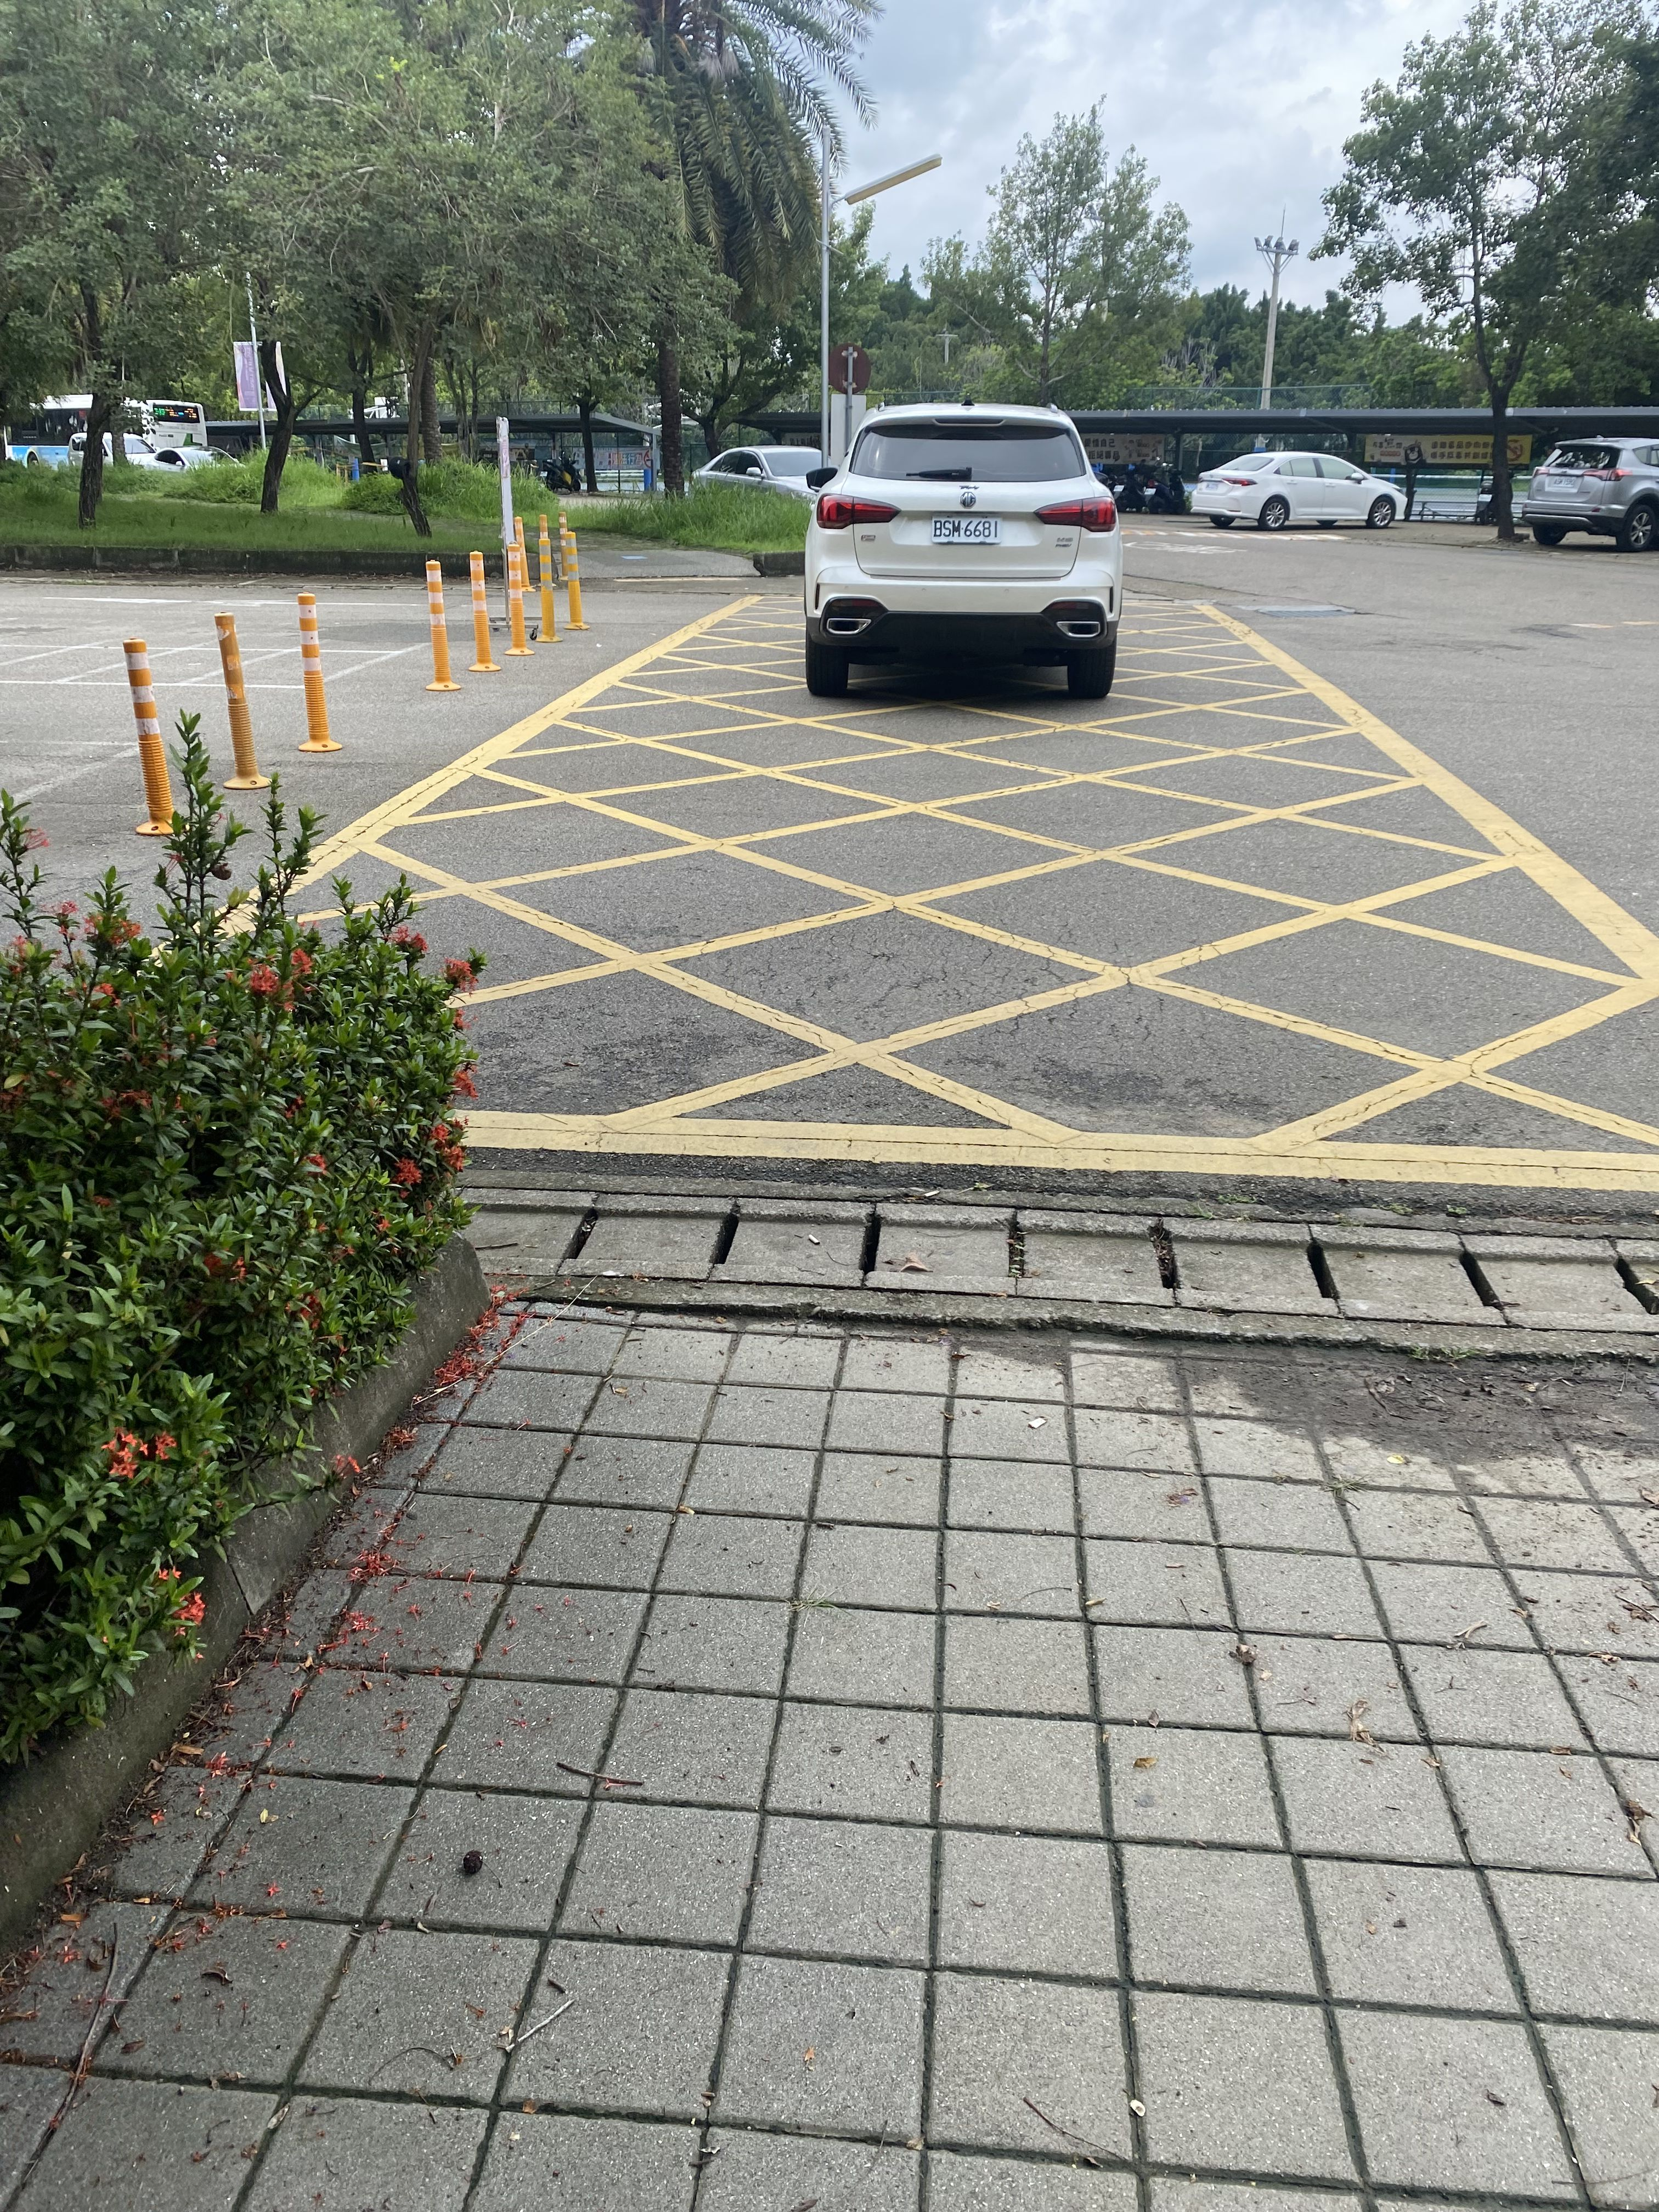sidewalk: (0, 1320, 1659, 2212)
